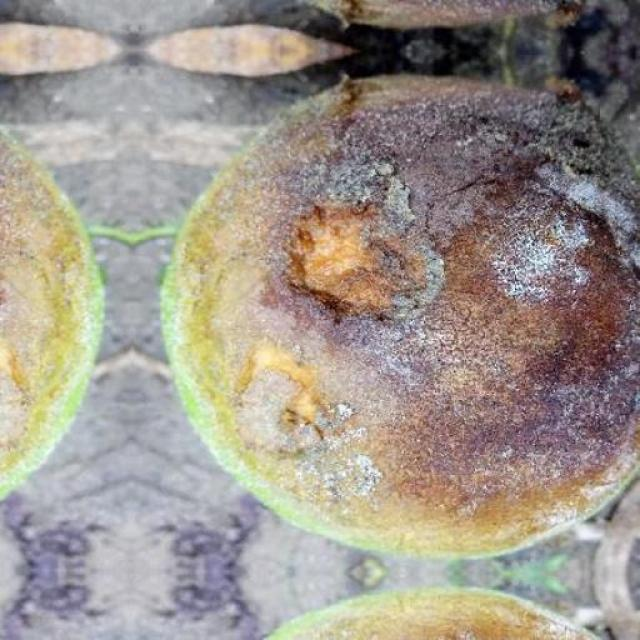Styler_Root: (162, 75, 640, 558), (0, 134, 102, 496)
